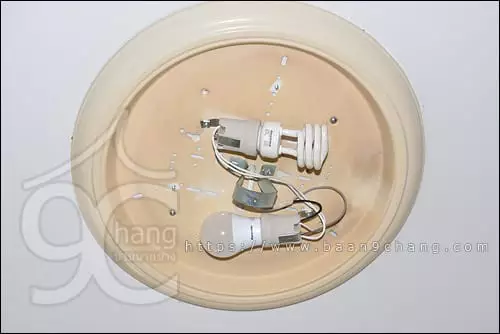Light_bulb: (195, 200, 307, 268), (231, 112, 337, 180)
